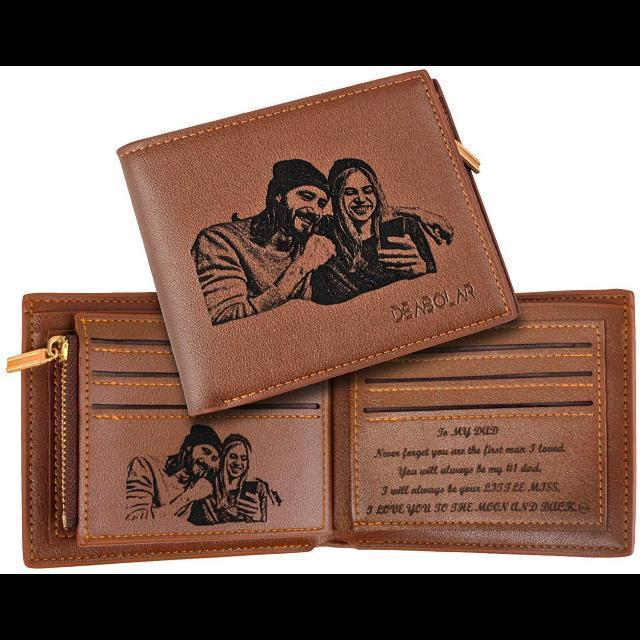wallet: (111, 65, 519, 425)
